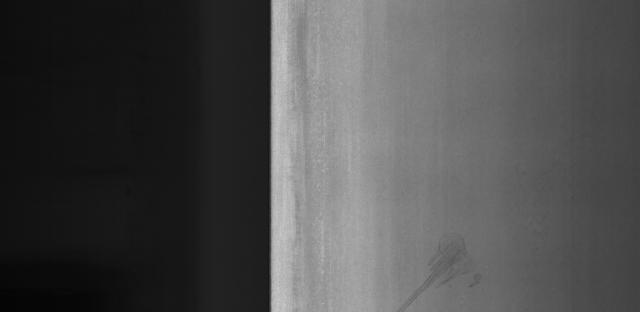water_spot: (386, 227, 509, 312)
